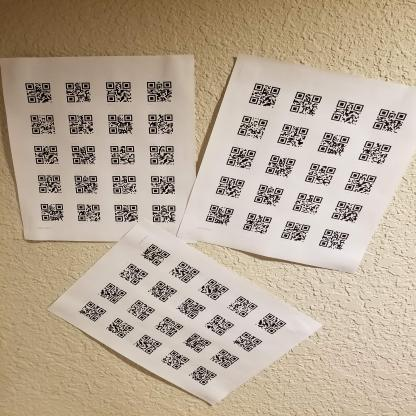qr: (354, 136, 395, 167), (372, 107, 411, 138), (300, 159, 339, 189), (328, 196, 367, 226), (247, 80, 285, 110), (236, 111, 272, 142), (220, 143, 260, 170), (272, 119, 309, 148), (341, 170, 381, 196), (290, 88, 323, 119), (102, 78, 137, 107), (249, 180, 286, 207), (262, 151, 297, 179), (238, 210, 273, 238), (276, 216, 309, 245), (135, 242, 173, 267), (317, 129, 353, 155), (333, 95, 365, 124), (212, 174, 248, 199), (317, 224, 350, 251), (105, 312, 137, 339), (167, 258, 200, 284), (198, 274, 231, 300), (144, 279, 179, 303), (258, 310, 290, 336), (153, 313, 186, 338), (184, 362, 218, 386), (67, 111, 97, 138), (126, 296, 157, 322), (204, 200, 236, 225), (209, 344, 241, 369), (290, 191, 324, 214), (146, 79, 177, 104), (228, 293, 260, 317), (160, 346, 193, 369), (134, 331, 164, 356), (234, 327, 265, 351), (119, 261, 151, 284), (148, 140, 175, 167), (64, 79, 92, 105), (25, 79, 55, 103), (178, 295, 209, 318), (205, 313, 236, 336), (107, 112, 134, 137), (148, 111, 175, 136), (111, 142, 137, 167), (38, 170, 63, 196), (182, 331, 214, 351), (76, 201, 104, 223), (99, 280, 127, 302), (113, 203, 142, 224), (32, 112, 57, 136), (74, 173, 99, 197), (40, 201, 66, 223), (113, 173, 137, 196), (34, 144, 61, 164), (78, 301, 106, 320), (152, 174, 176, 196), (151, 202, 177, 222), (71, 145, 95, 164)
